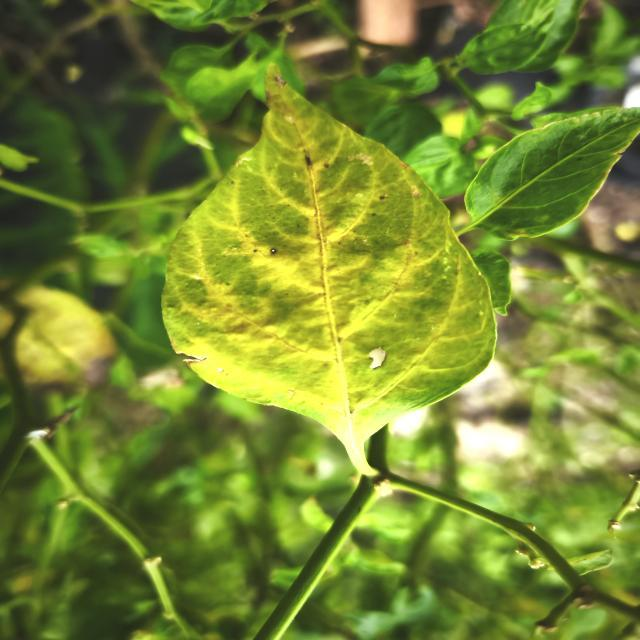Virus Kuning: (160, 62, 499, 478), (464, 104, 640, 246)
